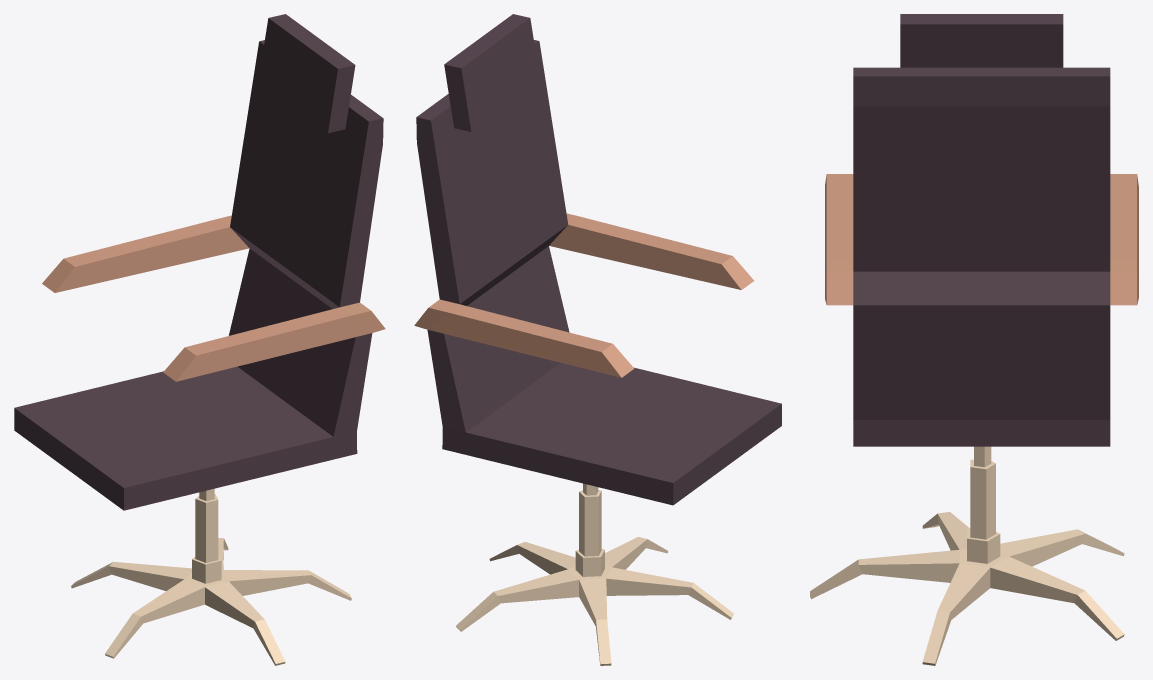
File: chair.glb
3 renders of one model, left to right at view 1: azimuth 30°, elevation 25°; view 2: azimuth 150°, elevation 25°; view 3: azimuth 270°, elevation 25°, orthographic. The views are drawn at different scales.
Visible parts, largest first — view 1: Cube, Cylinder; view 2: Cube, Cylinder; view 3: Cube, Cylinder.
Boxes of the visible parts, x1=… form: Cube: x1=14, y1=14, x2=385, y2=510; Cylinder: x1=71, y1=488, x2=351, y2=665; Cube: x1=414, y1=14, x2=781, y2=505; Cylinder: x1=456, y1=483, x2=733, y2=665; Cube: x1=825, y1=14, x2=1138, y2=446; Cylinder: x1=810, y1=446, x2=1124, y2=665.
Size of the model in its own units: 6.03 by 12.05 by 5.63.
